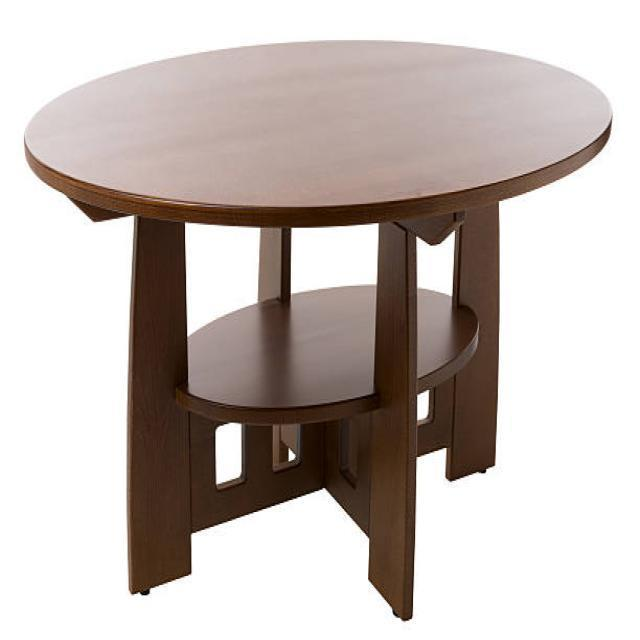table: (23, 37, 613, 618)
